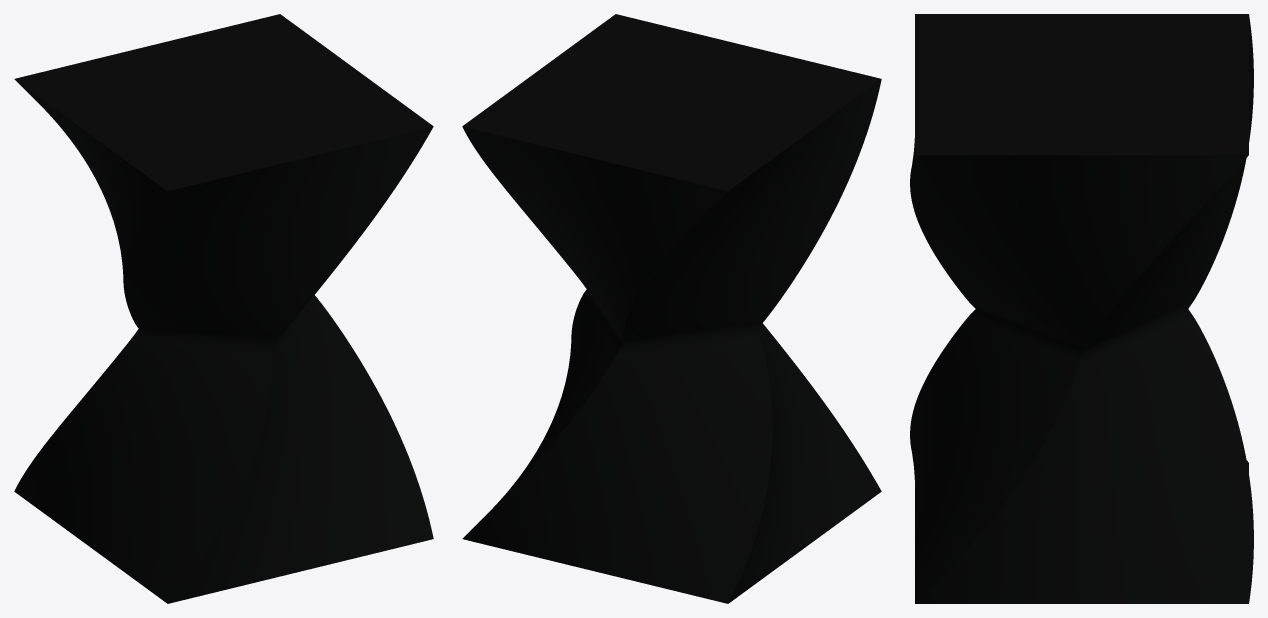
The model's file is christopher-knight-kajsa-table.glb.
3 views of the same model, side by side, from view 1: azimuth 30°, elevation 25°; view 2: azimuth 150°, elevation 25°; view 3: azimuth 270°, elevation 25° (orthographic). The views are drawn at different scales.
Parts seen in each view (by area): view 1: Smooth molded concrete side 3, Flat square tabletop, Smooth molded concrete side 4, Smooth molded concrete side 2; view 2: Smooth molded concrete side 2, Flat square tabletop, Smooth molded concrete side 1, Smooth molded concrete side 3; view 3: Smooth molded concrete side 1, Smooth molded concrete side 4, Flat square tabletop.
Part boxes in pixels (<box>): Smooth molded concrete side 3: <box>14,126,433,603</box>; Flat square tabletop: <box>15,14,433,190</box>; Smooth molded concrete side 4: <box>168,295,433,603</box>; Smooth molded concrete side 2: <box>14,79,167,341</box>; Smooth molded concrete side 2: <box>462,79,881,603</box>; Flat square tabletop: <box>462,14,880,190</box>; Smooth molded concrete side 1: <box>462,126,727,507</box>; Smooth molded concrete side 3: <box>728,323,881,603</box>; Smooth molded concrete side 1: <box>915,15,1253,603</box>; Smooth molded concrete side 4: <box>910,155,1248,603</box>; Flat square tabletop: <box>915,14,1248,155</box>.
Bounding box in the file's own units: 0.3175 × 0.4572 × 0.3175.
Materials: 1 (1 with a texture image).
